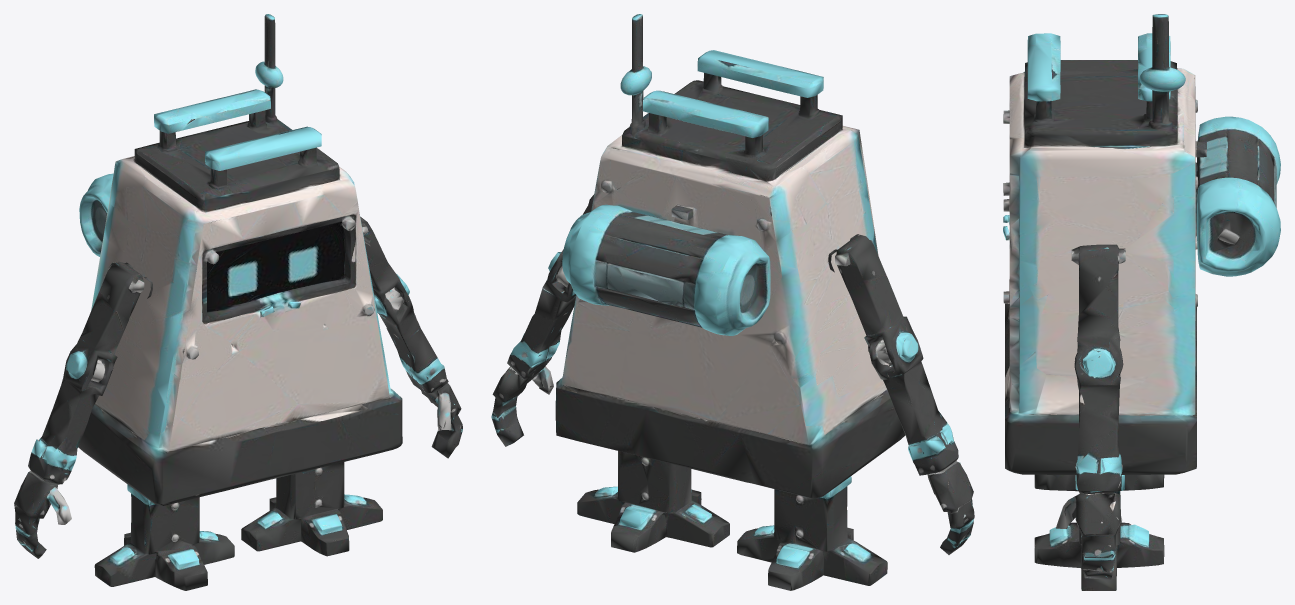
3 renders of one model, left to right at view 1: azimuth 30°, elevation 25°; view 2: azimuth 150°, elevation 25°; view 3: azimuth 270°, elevation 25°, orthographic. The views are drawn at different scales.
Parts seen in each view (by area): view 1: body, leg_L, leg_R, forearm_L, forearm_R, arm_L, arm_R; view 2: body, leg_L, leg_R, forearm_L, forearm_R, arm_L; view 3: body, forearm_R, arm_R, leg_R, leg_L.
Boxes of the visible parts, x1,y1,x2,y2 form: body: (78,14,402,505); leg_L: (94,484,234,590); leg_R: (241,462,382,556); forearm_L: (14,360,112,558); forearm_R: (375,292,462,458); arm_L: (66,261,144,375); arm_R: (360,217,409,302); body: (555,14,905,498); leg_L: (737,476,887,590); leg_R: (577,451,729,552); forearm_L: (868,341,974,554); forearm_R: (491,268,576,446); arm_L: (835,235,918,358); body: (1003,14,1280,474); forearm_R: (1056,355,1122,579); arm_R: (1071,244,1125,369); leg_R: (1034,475,1164,590); leg_L: (1034,474,1164,491).
Size of the model in its own units: 1.75 by 1.9 by 0.8911.
Materials: 1 (1 with a texture image).
